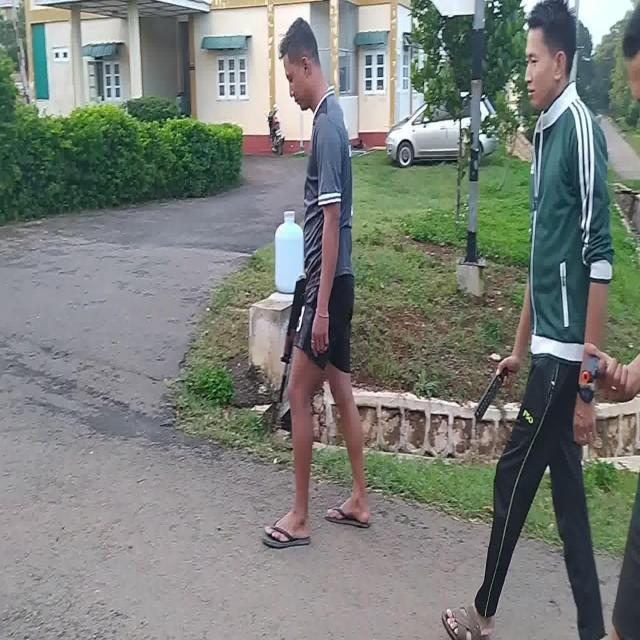gun: (281, 273, 307, 404), (580, 355, 600, 383)
